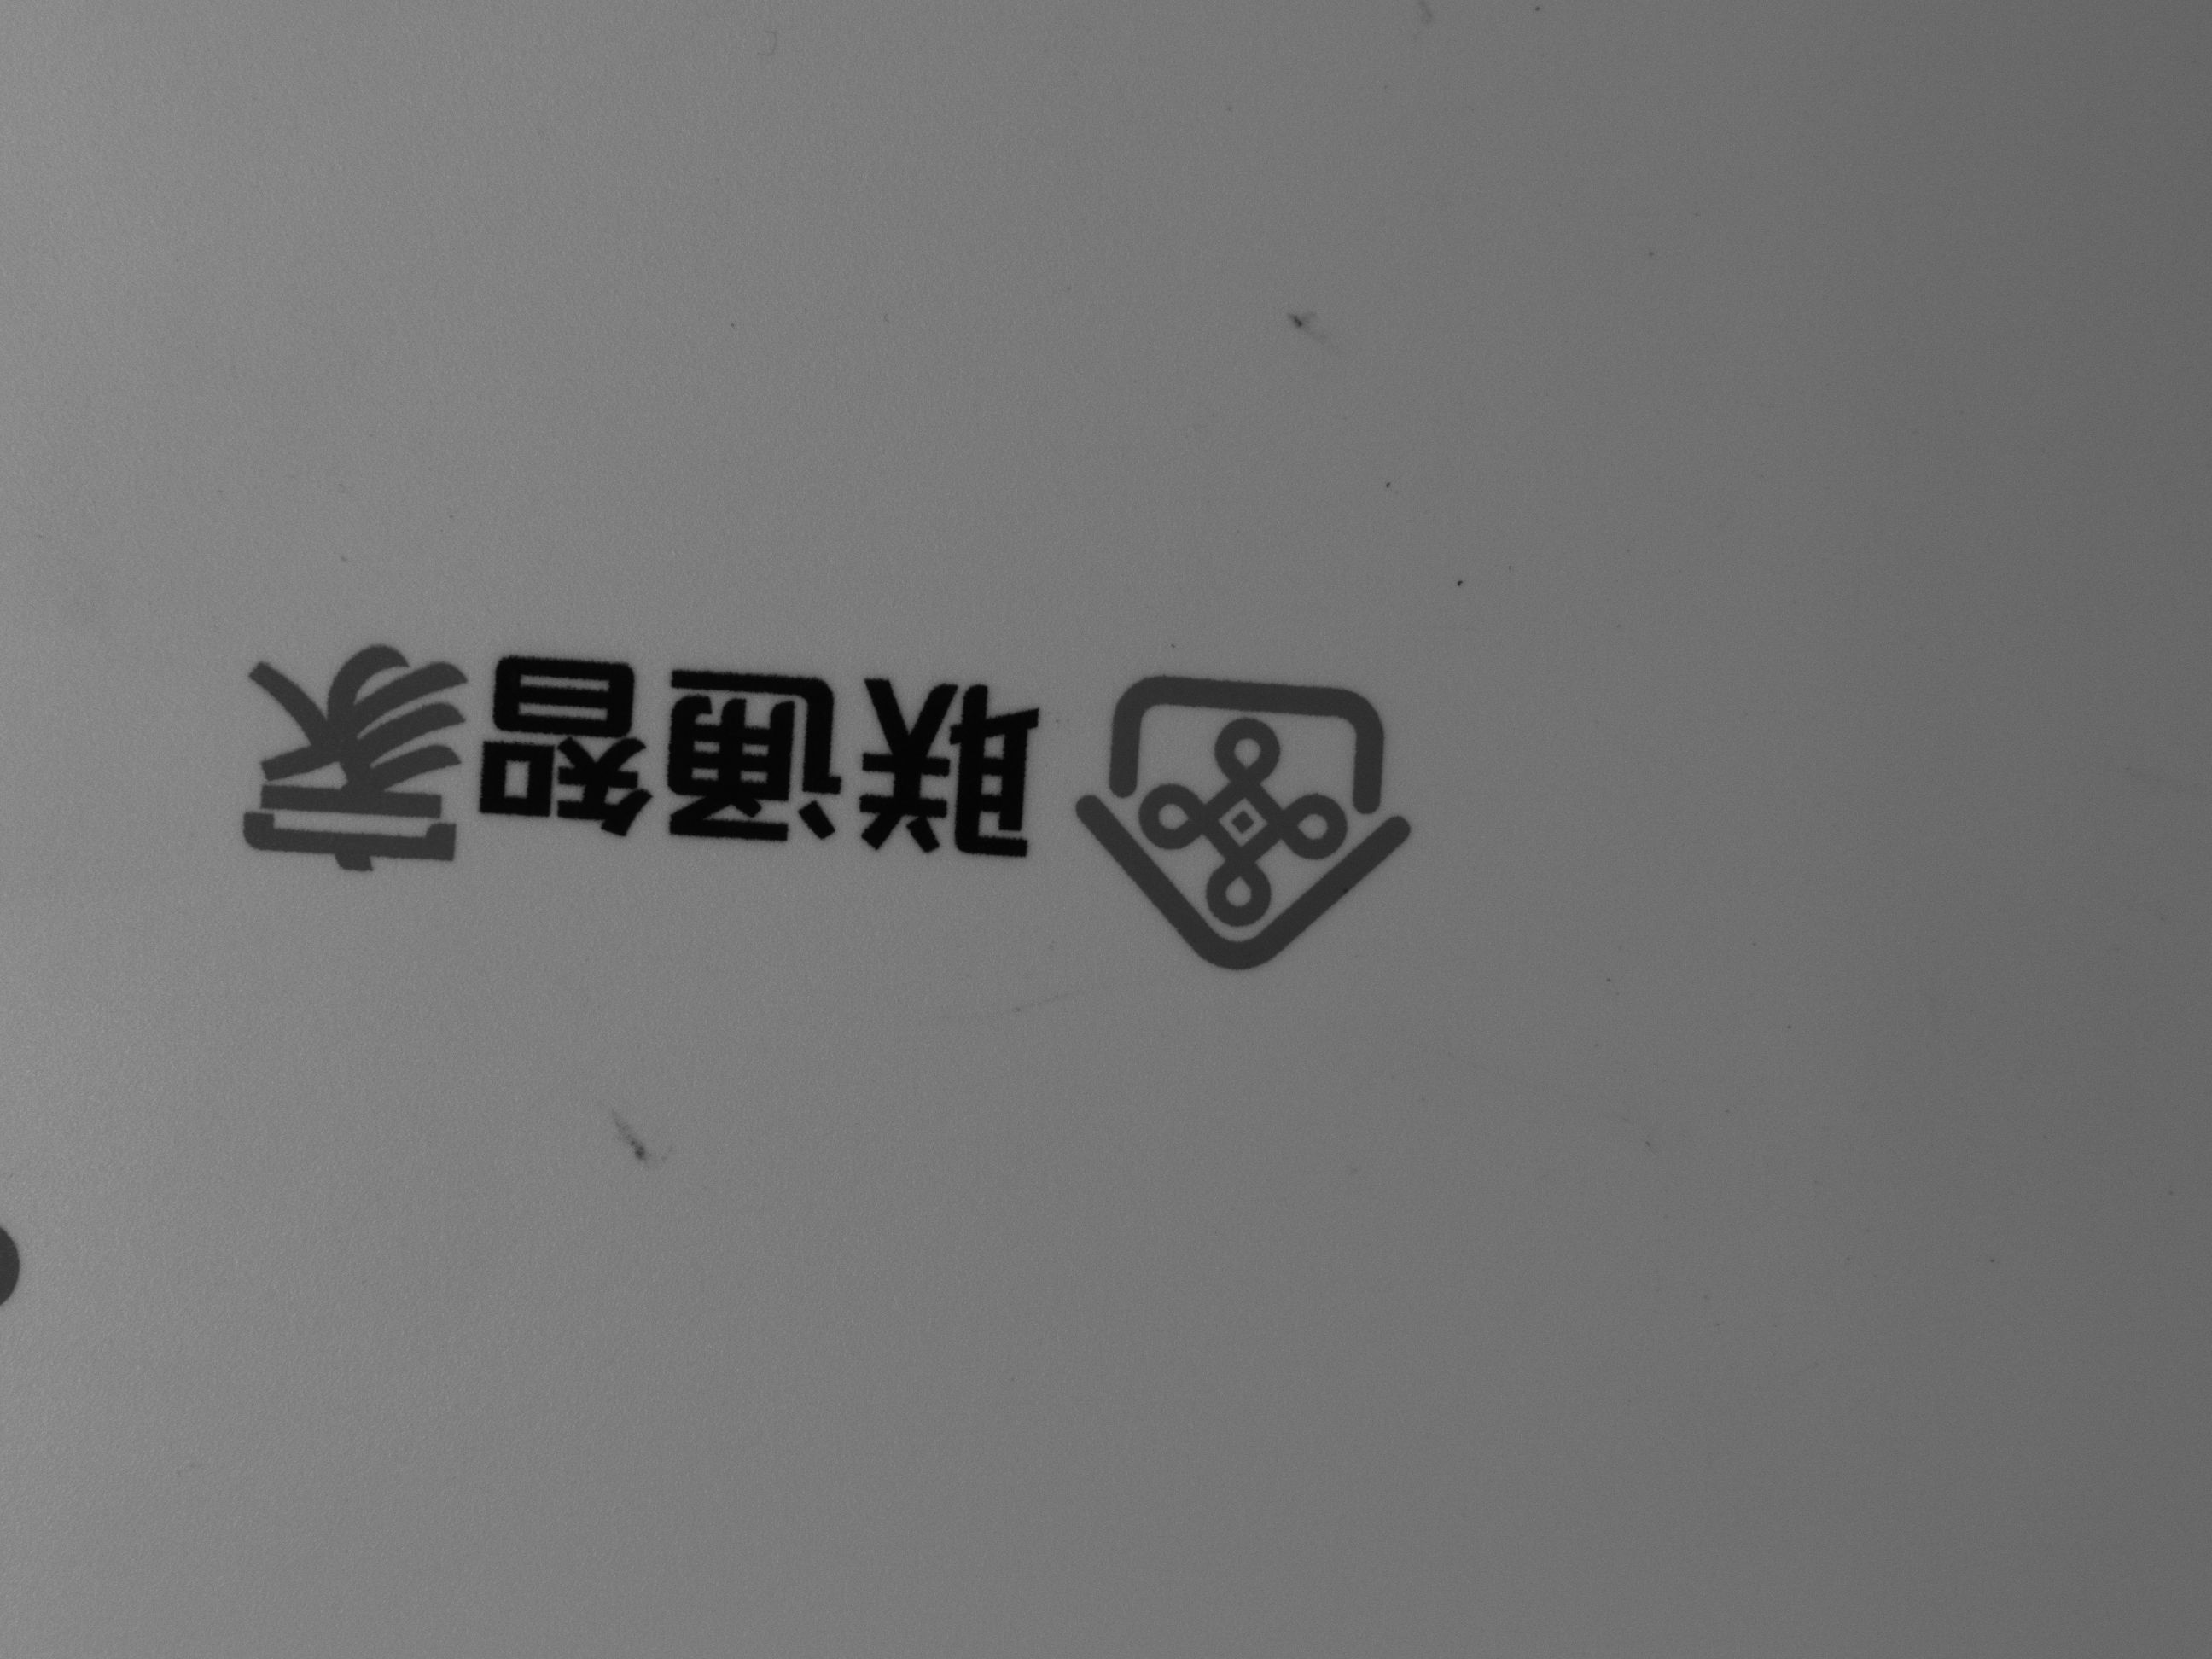BY_F6610Unicome: (157, 587, 1428, 972)
